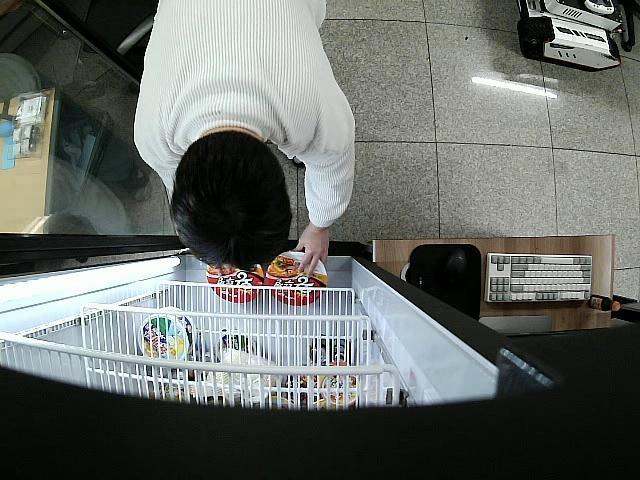10_wangTtukkeong: (266, 250, 330, 308)
